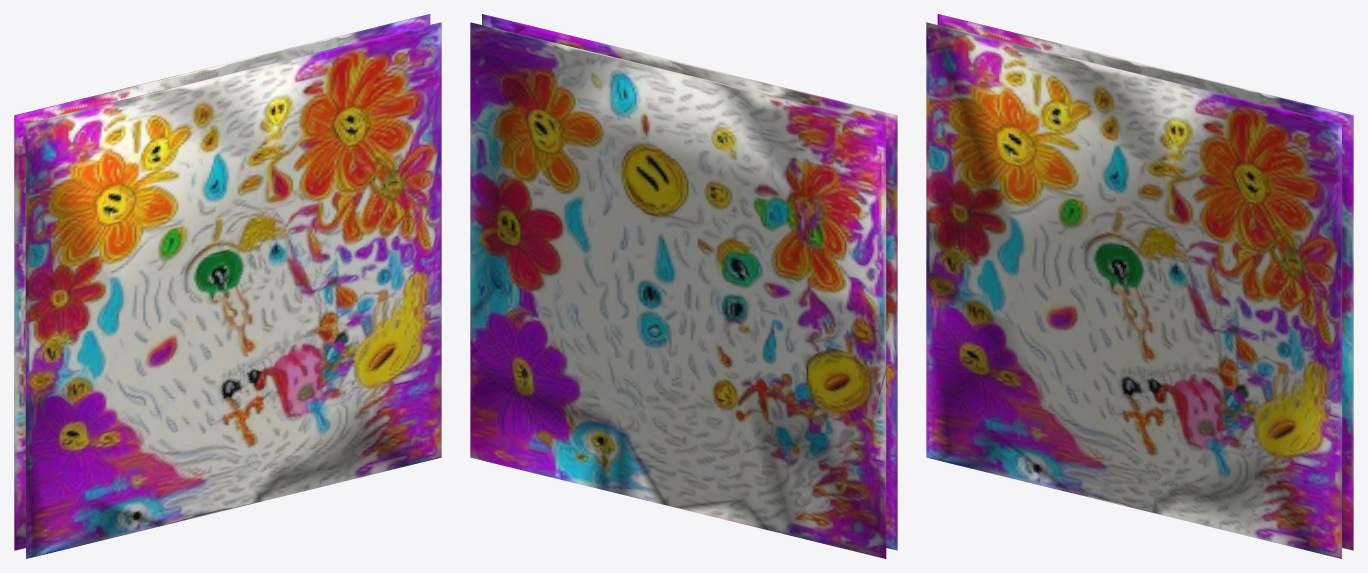
3 views of the same model, side by side, from view 1: azimuth 30°, elevation 25°; view 2: azimuth 150°, elevation 25°; view 3: azimuth 330°, elevation 25° (orthographic).
Parts seen in each view (by area): view 1: node_0; view 2: node_0; view 3: node_0.
Boxes of the visible parts, x1,y1,x2,y2 form: node_0: (14,14,441,558); node_0: (470,14,897,558); node_0: (926,14,1353,558).
Size of the model in its own units: 0.8479 by 0.8485 by 0.0421.
Materials: 1 (1 with a texture image).
